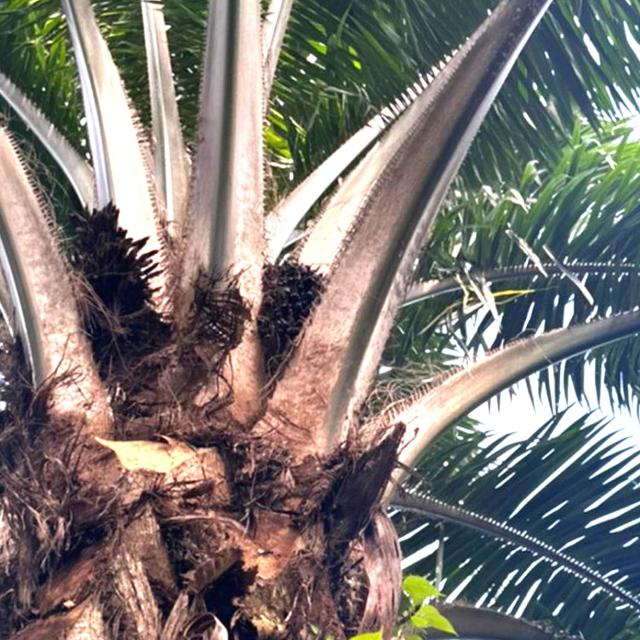unripe: (250, 255, 329, 372)
